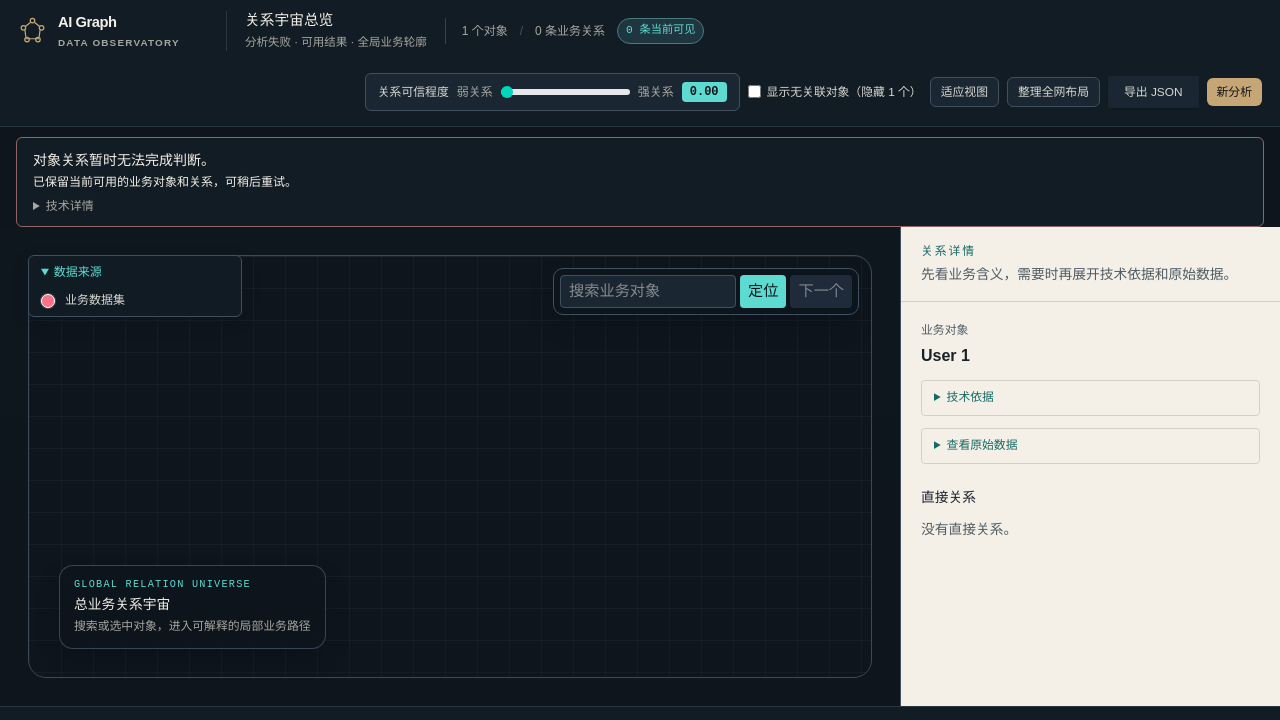
Test: App graph error result › keeps the complete real workbench available behind a non-blocking failure banner
This screenshot has width=1280, height=720.
Expected: the picture named "语义关系图" is shown, [29,256,871,677]
Expected: the button "导出 JSON" is enabled, [1108,76,1198,108]
Click the heading "技术依据". click: (970, 397)
box: [946,390,994,404]
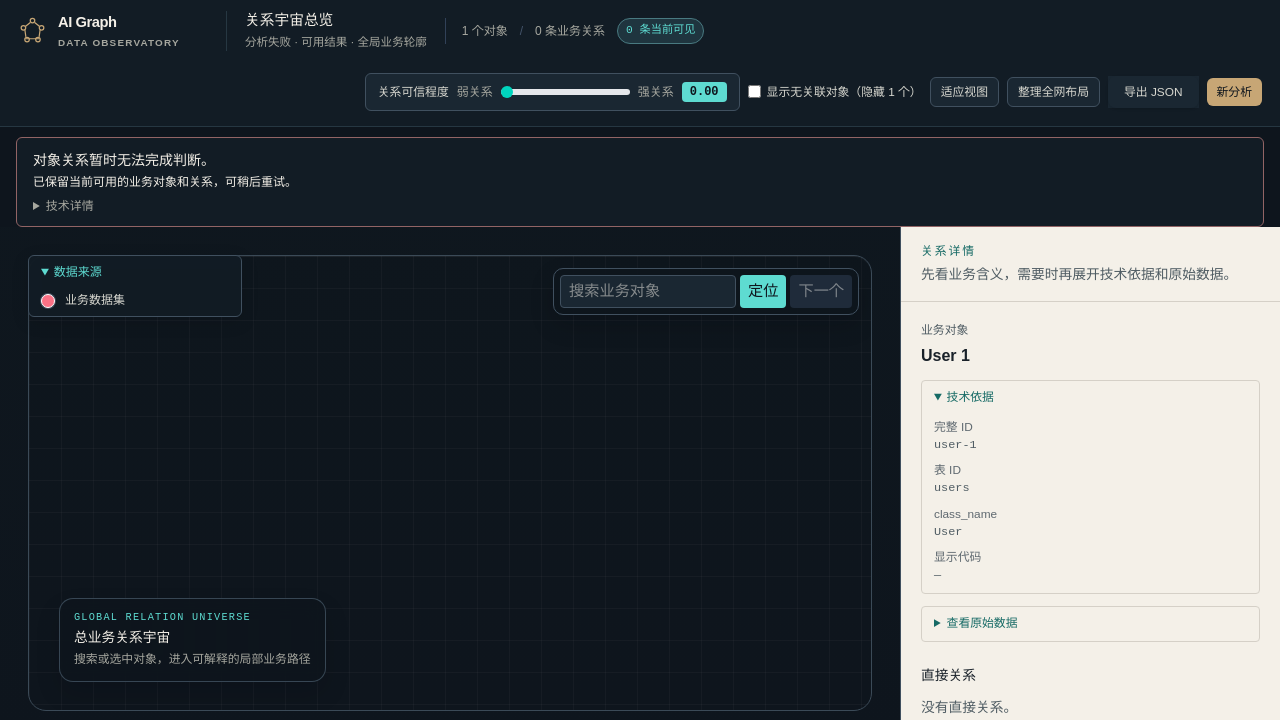
Now the text "user-1" is shown, box [934,438,977,452]
Now the text "User" is shown, box [934,525,962,539]
